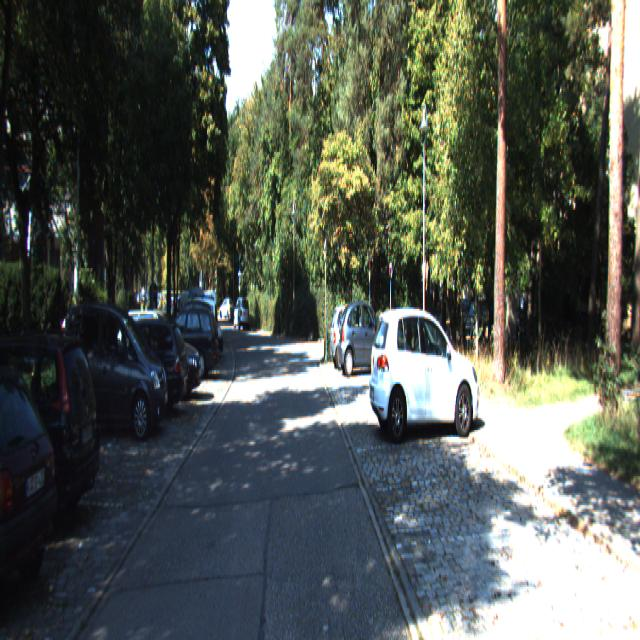Car: (0, 324, 103, 549), (55, 298, 170, 447), (0, 351, 62, 625), (367, 303, 482, 442), (88, 315, 189, 423), (114, 307, 202, 406), (154, 302, 218, 380), (337, 297, 393, 377), (233, 297, 250, 331)
